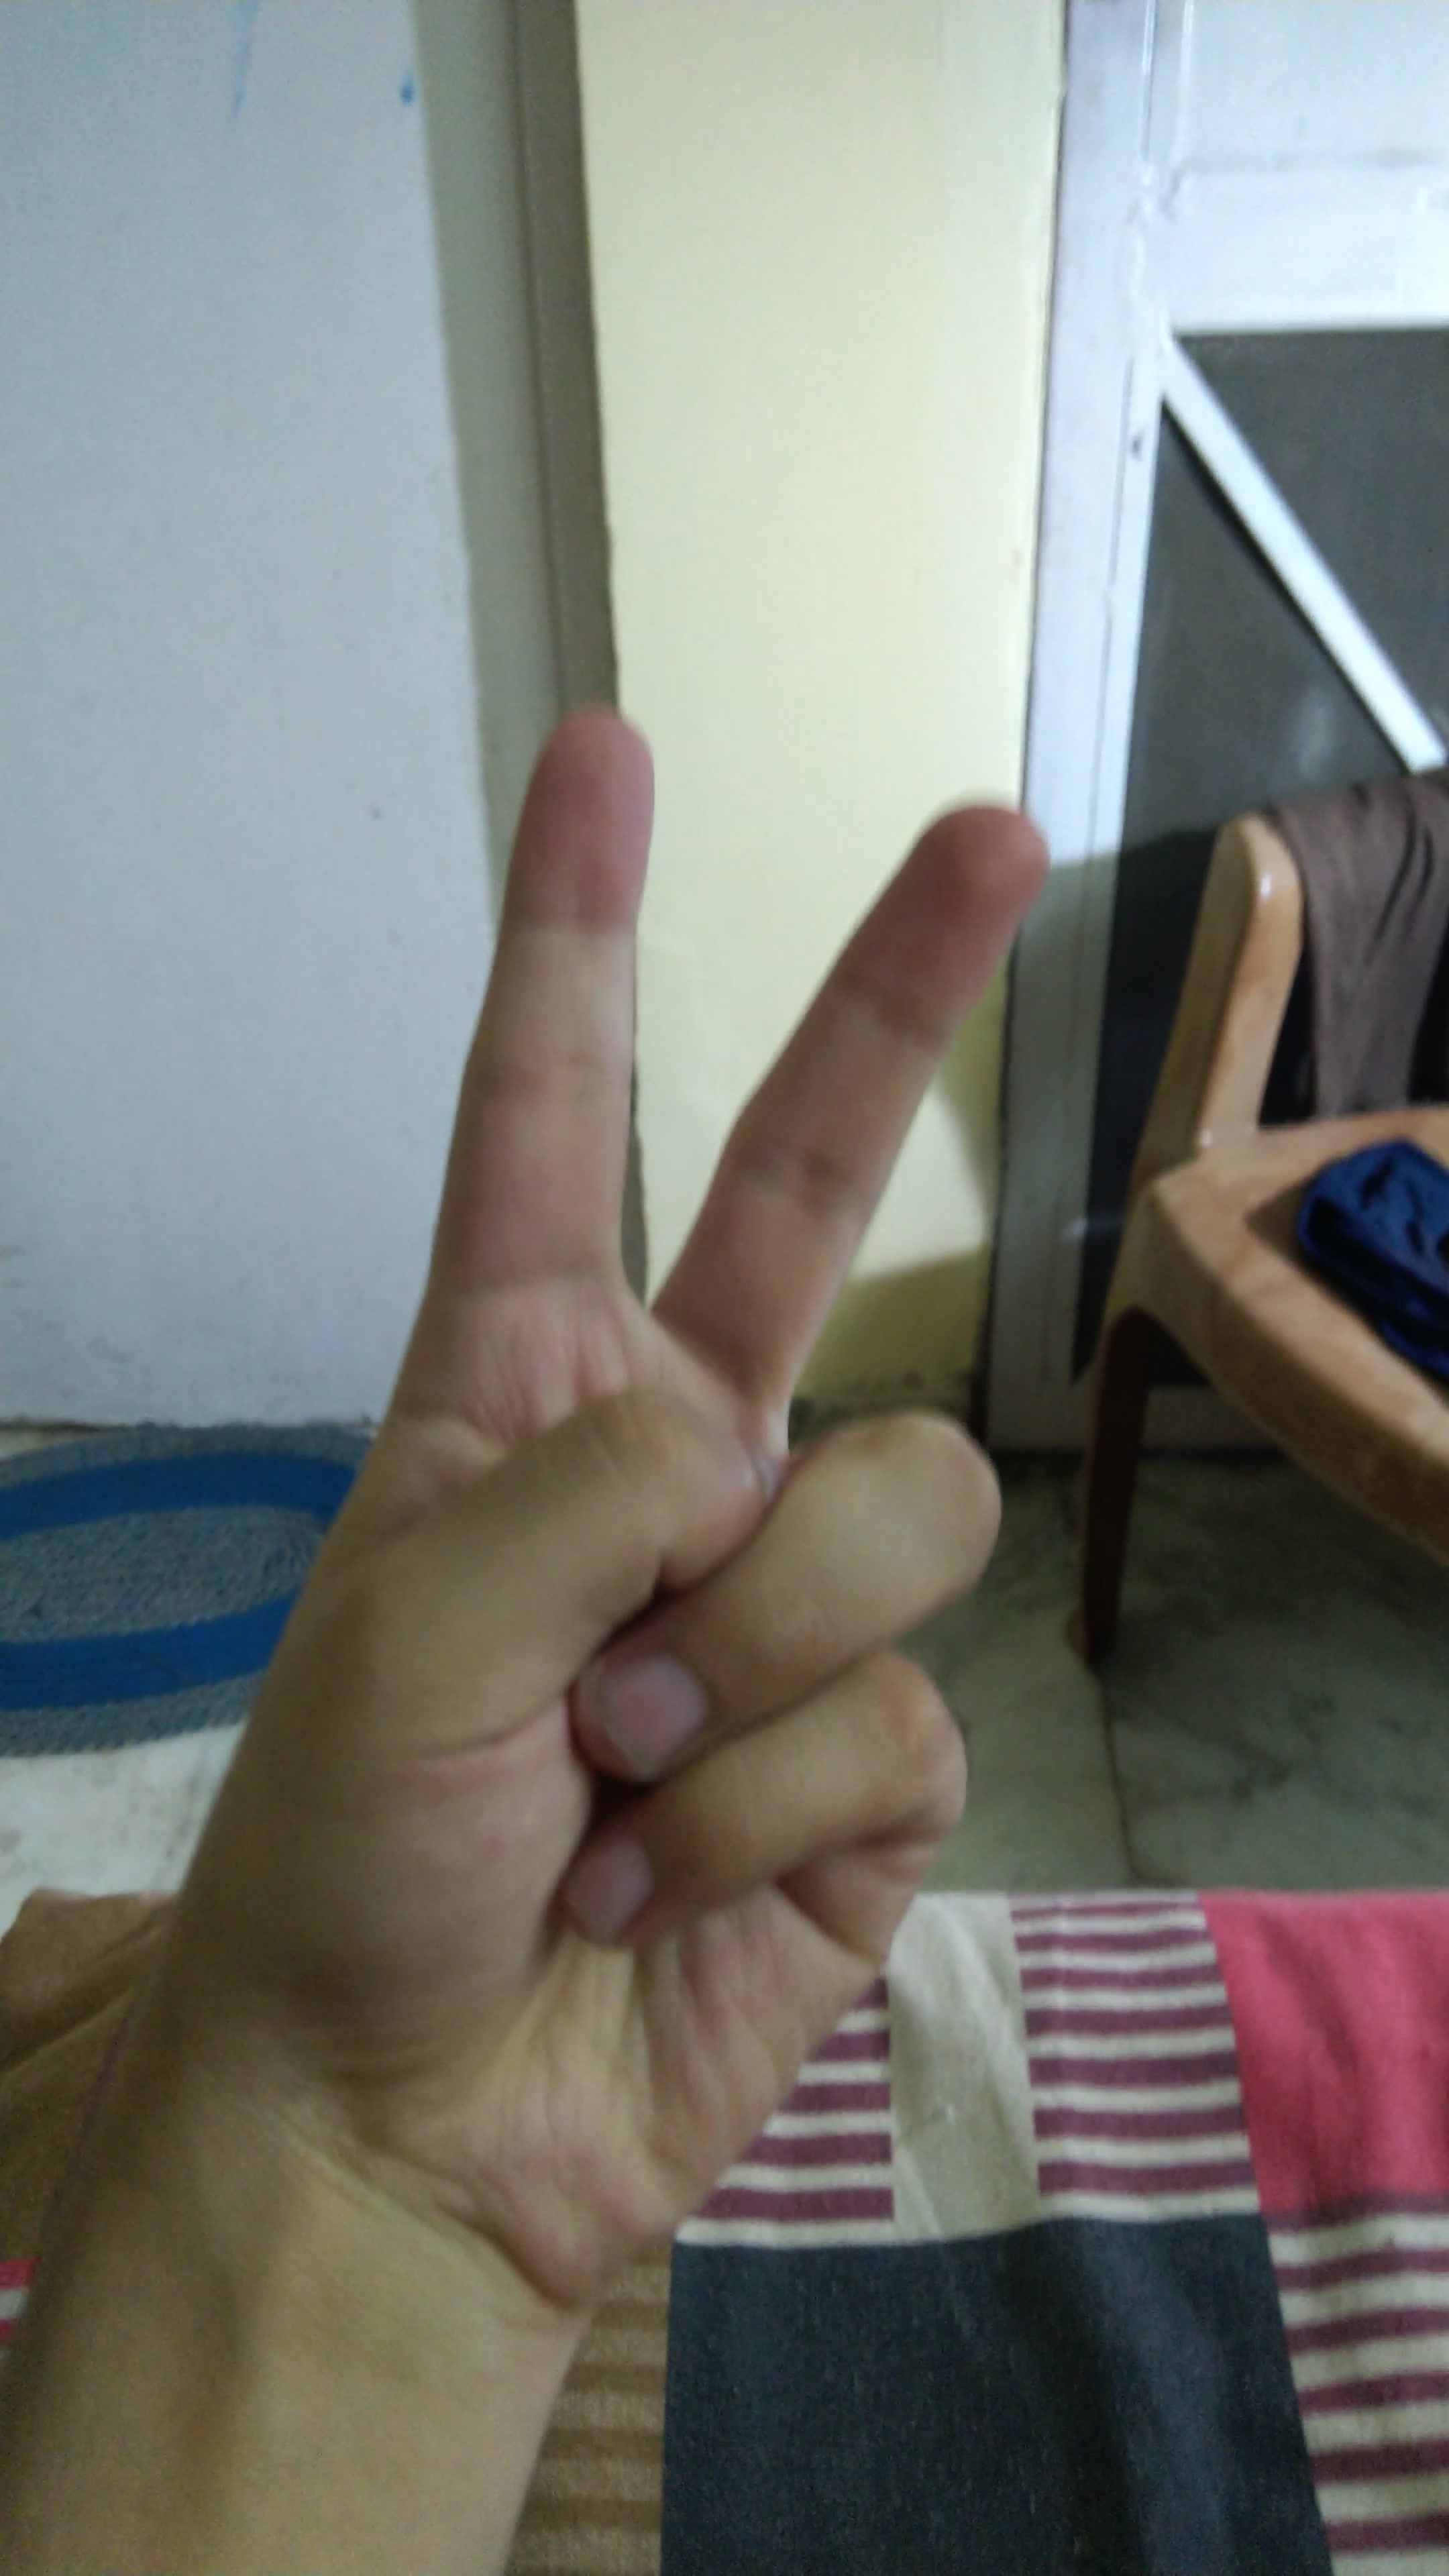hand: (71, 667, 1184, 2319)
